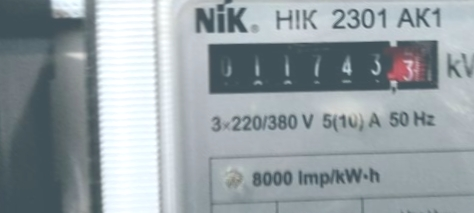0: (218, 51, 233, 79)
1: (279, 49, 292, 77), (250, 50, 261, 77)
3: (368, 49, 383, 76), (399, 57, 414, 82)
4: (338, 50, 353, 77)
7: (308, 48, 324, 76)
screen: (196, 25, 451, 107)
